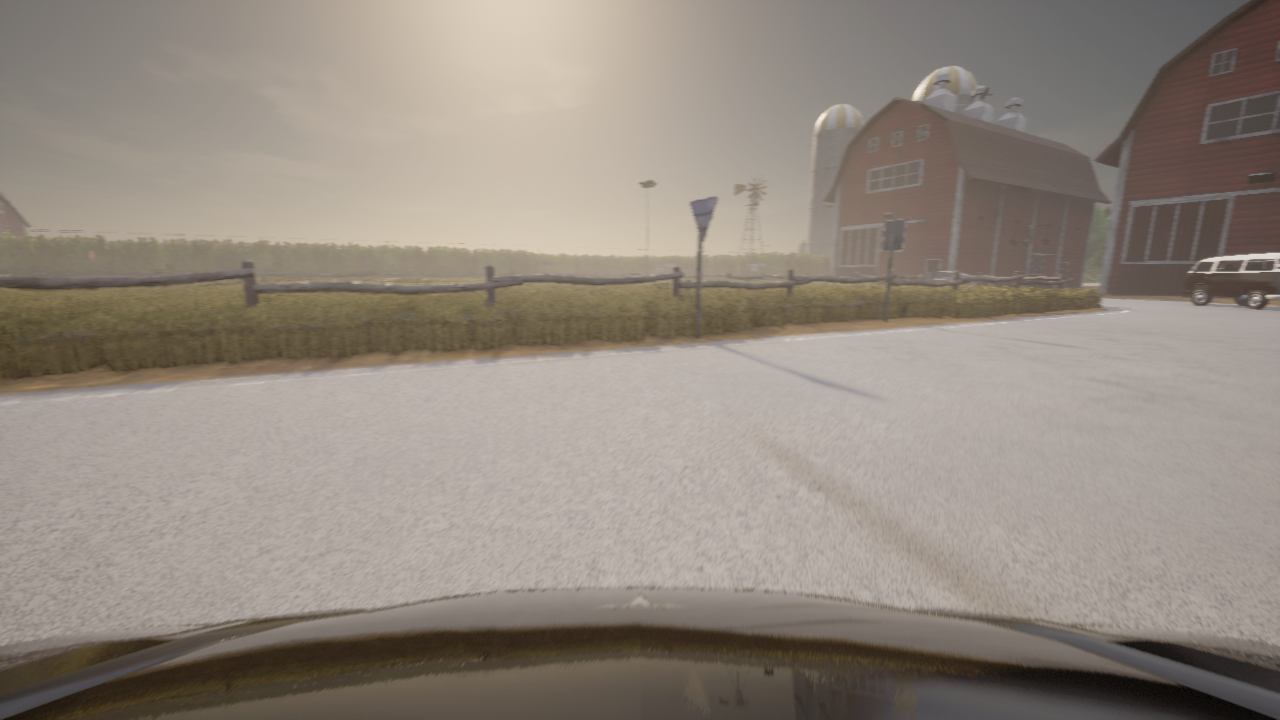cyclist: (0, 588, 1279, 719), (1183, 253, 1279, 308), (900, 271, 975, 285)
